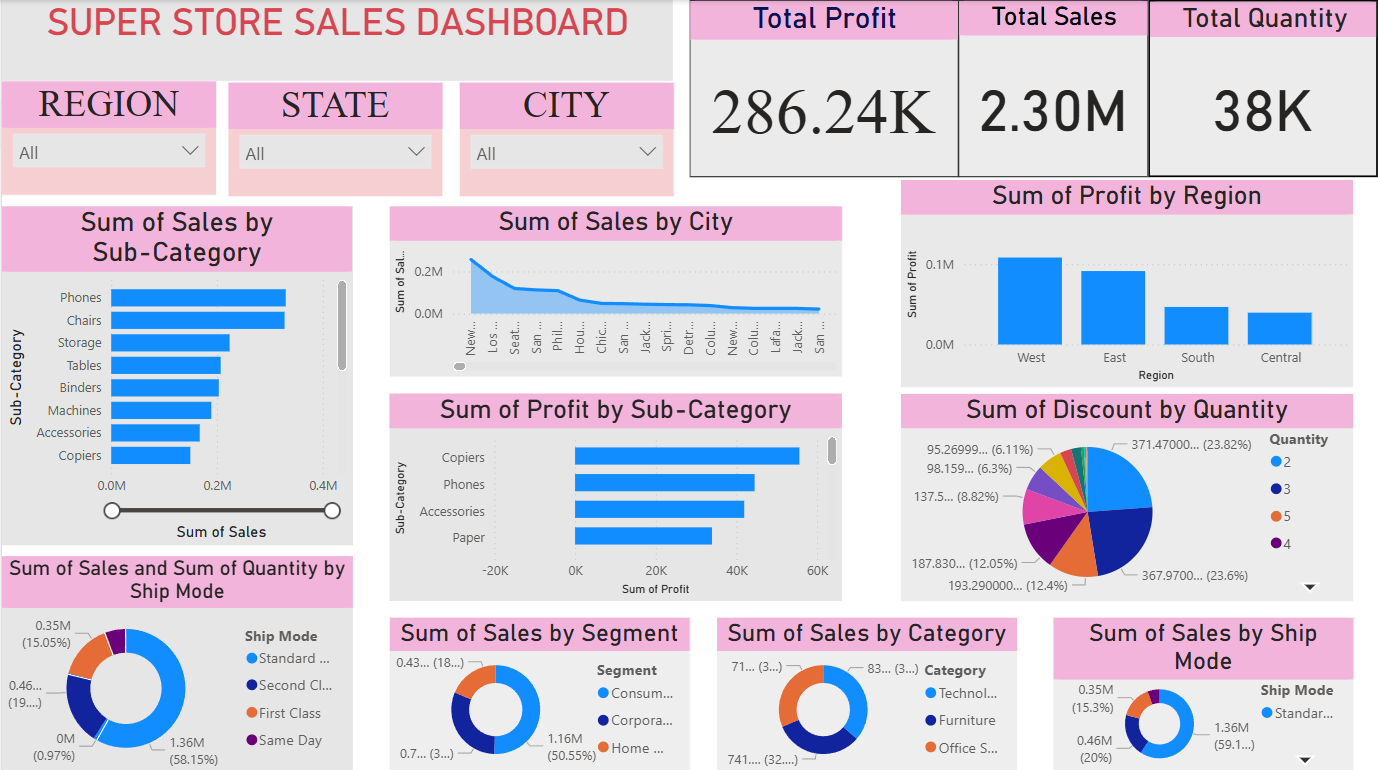

Layout of this report page (visuals, bound fields, positions):
{"tool":"powerbi","page":{"name":"Page 1","canvas":[1280,720],"ordinal":0},"visuals":[{"type":"textbox","title":"SUPER STORE SALES DASHBOARD","box":[0,0,624.4,75.5],"z":0},{"type":"card","title":"Total Profit","fields":{"Values":["Sum(SampleSuperstore.Profit)"]},"box":[639.5,0,250,165.1],"z":1000},{"type":"card","title":"Total Sales","fields":{"Values":["Sum(SampleSuperstore.Sales)"]},"box":[889.5,0,176.7,165.1],"z":2000},{"type":"card","title":"Total Quantity","fields":{"Values":["Sum(SampleSuperstore.Quantity)"]},"box":[1066.3,0,214,165.1],"z":3000},{"type":"slicer","title":"REGION","fields":{"Values":["SampleSuperstore.Region"]},"box":[0,75.5,199,105.7],"z":4000},{"type":"slicer","title":"STATE","fields":{"Values":["SampleSuperstore.State"]},"box":[209.9,76.8,199,105.7],"z":5000},{"type":"slicer","title":"CITY","fields":{"Values":["SampleSuperstore.City"]},"box":[425.4,76.8,199,105.7],"z":6000},{"type":"barChart","fields":{"Y":["Sum(SampleSuperstore.Sales)"],"Category":["SampleSuperstore.Sub-Category"]},"box":[0,191.9,325.6,315.1],"z":7000},{"type":"stackedAreaChart","fields":{"Category":["SampleSuperstore.City"],"Y":["Sum(SampleSuperstore.Sales)"]},"box":[360.5,191.9,420.9,158.1],"z":8000},{"type":"barChart","fields":{"Category":["SampleSuperstore.Sub-Category"],"Y":["Sum(SampleSuperstore.Profit)"]},"box":[360.5,366.3,420.9,193],"z":9000},{"type":"columnChart","fields":{"Category":["SampleSuperstore.Region"],"Y":["Sum(SampleSuperstore.Profit)"]},"box":[836,167.4,420.9,193],"z":10000},{"type":"donutChart","fields":{"Y":["Sum(SampleSuperstore.Sales)","Sum(SampleSuperstore.Quantity)"],"Category":["SampleSuperstore.Ship Mode"]},"box":[0,517,326,203],"z":10001},{"type":"donutChart","fields":{"Category":["SampleSuperstore.Segment"],"Y":["Sum(SampleSuperstore.Sales)"]},"box":[360.5,574.4,279.1,145.3],"z":10002},{"type":"donutChart","fields":{"Y":["Sum(SampleSuperstore.Sales)"],"Category":["SampleSuperstore.Category"]},"box":[665.1,574.4,279.1,145.3],"z":10003},{"type":"donutChart","fields":{"Y":["Sum(SampleSuperstore.Sales)"],"Category":["SampleSuperstore.Ship Mode"]},"box":[977.9,574.4,279.1,145.3],"z":10004},{"type":"pieChart","fields":{"Category":["SampleSuperstore.Quantity"],"Y":["Sum(SampleSuperstore.Discount)"]},"box":[836,366.3,420.9,193],"z":10005}]}

Visuals, with their boxes in screenshot pixels (x1, y1, x2, y2), scaled from the page's 1280x720 canvas onto the 1378x770 screenshot:
"SUPER STORE SALES DASHBOARD" textbox: (x1=0, y1=0, x2=672, y2=81)
"Total Profit" card: (x1=688, y1=0, x2=958, y2=177)
"Total Sales" card: (x1=958, y1=0, x2=1148, y2=177)
"Total Quantity" card: (x1=1148, y1=0, x2=1377, y2=177)
"REGION" slicer: (x1=0, y1=81, x2=214, y2=194)
"STATE" slicer: (x1=226, y1=82, x2=440, y2=195)
"CITY" slicer: (x1=458, y1=82, x2=672, y2=195)
barChart - Sum(SampleSuperstore.Sales) x SampleSuperstore.Sub-Category: (x1=0, y1=205, x2=351, y2=542)
stackedAreaChart - SampleSuperstore.City x Sum(SampleSuperstore.Sales): (x1=388, y1=205, x2=841, y2=374)
barChart - SampleSuperstore.Sub-Category x Sum(SampleSuperstore.Profit): (x1=388, y1=392, x2=841, y2=598)
columnChart - SampleSuperstore.Region x Sum(SampleSuperstore.Profit): (x1=900, y1=179, x2=1353, y2=385)
donutChart - Sum(SampleSuperstore.Sales) x Sum(SampleSuperstore.Quantity): (x1=0, y1=553, x2=351, y2=769)
donutChart - SampleSuperstore.Segment x Sum(SampleSuperstore.Sales): (x1=388, y1=614, x2=689, y2=769)
donutChart - Sum(SampleSuperstore.Sales) x SampleSuperstore.Category: (x1=716, y1=614, x2=1016, y2=769)
donutChart - Sum(SampleSuperstore.Sales) x SampleSuperstore.Ship Mode: (x1=1053, y1=614, x2=1353, y2=769)
pieChart - SampleSuperstore.Quantity x Sum(SampleSuperstore.Discount): (x1=900, y1=392, x2=1353, y2=598)
